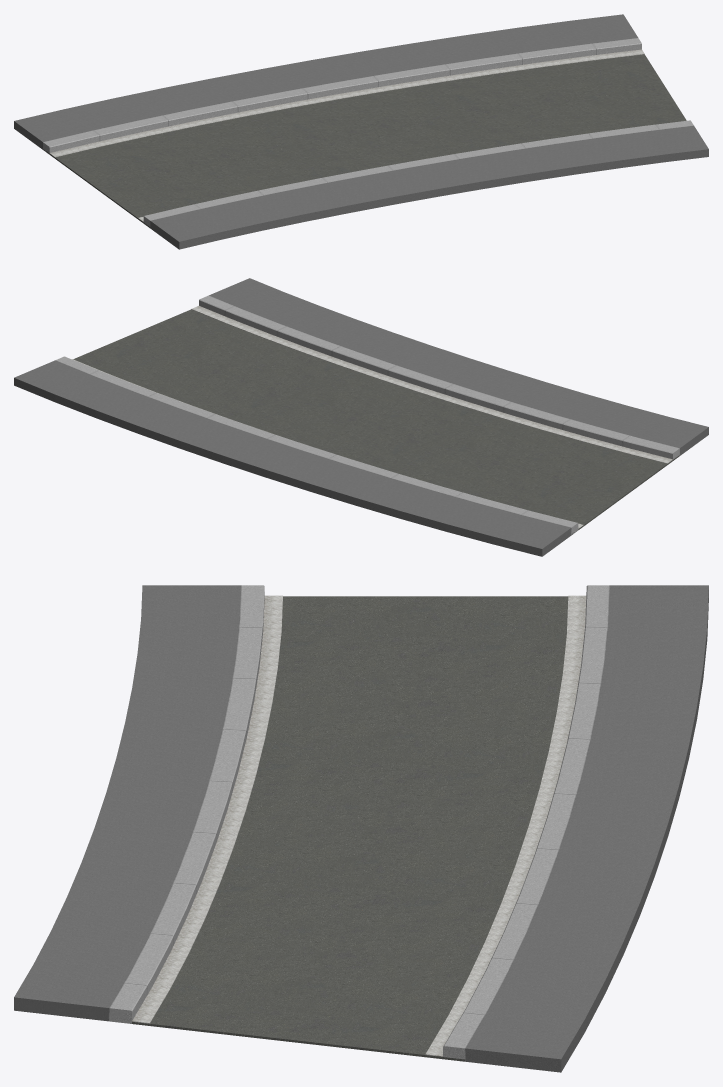
The model's file is routeCourbe1VoieAvecTrottoirs13m.obj.
The picture shows the model from 3 angles, top to bottom: view 1: azimuth 30°, elevation 25°; view 2: azimuth 150°, elevation 25°; view 3: azimuth 270°, elevation 25°; orthographic projection. The views are drawn at different scales.
Parts seen in each view (by area): view 1: roadCourbe1VoieAvecTrottoirs_Plane.012; view 2: roadCourbe1VoieAvecTrottoirs_Plane.012; view 3: roadCourbe1VoieAvecTrottoirs_Plane.012.
Boxes of the visible parts, left/top/right/bottom form: roadCourbe1VoieAvecTrottoirs_Plane.012: left=14, top=14, right=708, bottom=249; roadCourbe1VoieAvecTrottoirs_Plane.012: left=14, top=278, right=708, bottom=556; roadCourbe1VoieAvecTrottoirs_Plane.012: left=14, top=585, right=708, bottom=1072.
Size of the model in its own units: 1376 by 18 by 853.
